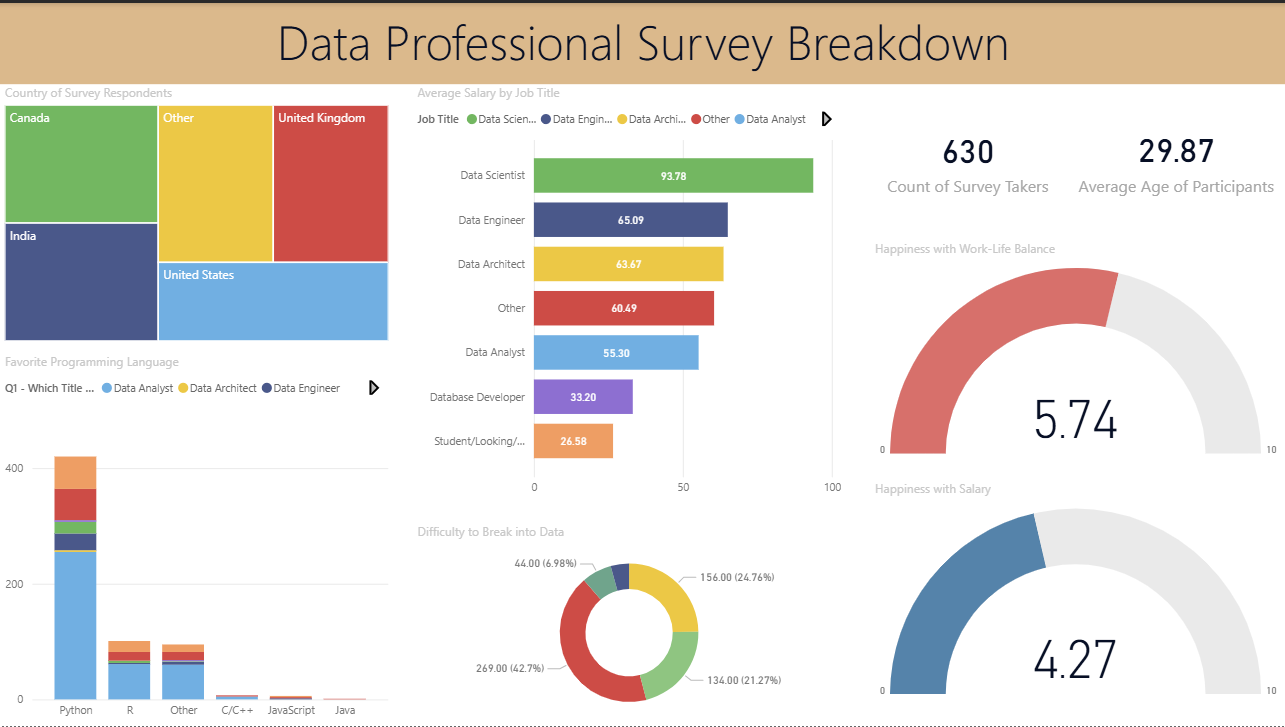

The dashboard page shown, as its layout file describes it:
{"tool":"powerbi","page":{"name":"Page 1","canvas":[1280,720],"ordinal":0},"visuals":[{"type":"textbox","box":[0,0,1280.3,81],"z":0},{"type":"card","fields":{"Values":["Count(Data Professional Survey.Unique ID)"]},"box":[865.5,80.9,195.2,150.2],"z":1000},{"type":"card","fields":{"Values":["Avg(Data Professional Survey.Q10 - Current Age)"]},"box":[1060.7,80.9,219.6,149],"z":2000},{"type":"barChart","title":"Average Salary by Job Title","fields":{"Category":["Data Professional Survey.Q1 - Which Title Best Fits your Current Role?.1"],"Y":["Avg(Data Professional Survey.Average Salary)"],"Series":["Data Professional Survey.Q1 - Which Title Best Fits your Current Role?.1"]},"box":[410.9,80.9,431.5,417.3],"z":3000},{"type":"columnChart","title":"Favorite Programming Language","fields":{"Category":["Data Professional Survey.Q5 - Favorite Programming Language.1"],"Y":["CountNonNull(Data Professional Survey.Unique ID)"],"Series":["Data Professional Survey.Q1 - Which Title Best Fits your Current Role?.1"]},"box":[0,348,391.7,372.4],"z":4000},{"type":"treemap","title":"Country of Survey Respondents","fields":{"Group":["Data Professional Survey.Q11 - Which Country do you live in?.1"],"Values":["Count(Data Professional Survey.Q11 - Which Country do you live in?.1)"]},"box":[0,80.9,391.7,260.7],"z":5000},{"type":"gauge","title":"Happiness with Work-Life Balance","fields":{"Y":["Avg(Data Professional Survey.Q6 - How Happy are you in your Current Position with the following? (Work/Life Balance))"],"MinValue":["Min(Data Professional Survey.Q6 - How Happy are you in your Current Position with the following? (Work/Life Balance))"],"MaxValue":["Max(Data Professional Survey.Q6 - How Happy are you in your Current Position with the following? (Work/Life Balance))1"]},"box":[865.5,236.3,414.8,228.6],"z":6000},{"type":"gauge","title":"Happiness with Salary","fields":{"Y":["Avg(Data Professional Survey.Q6 - How Happy are you in your Current Position with the following? (Salary))"],"MaxValue":["Max(Data Professional Survey.Q6 - How Happy are you in your Current Position with the following? (Salary))1"],"MinValue":["Min(Data Professional Survey.Q6 - How Happy are you in your Current Position with the following? (Salary))2"]},"box":[865.5,475.1,414.8,229.9],"z":7000},{"type":"donutChart","title":"Difficulty to Break into Data","fields":{"Series":["Data Professional Survey.Q7 - How difficult was it for you to break into Data?"],"Y":["CountNonNull(Data Professional Survey.Q7 - How difficult was it for you to break into Data?)"]},"box":[410.9,517.5,431.5,202.9],"z":8000}]}

Visuals, with their boxes in screenshot pixels (x1, y1, x2, y2), scaled from the page's 1280x720 canvas onto the 1285x727 screenshot:
textbox: (0,0,1284,82)
card - Count(Data Professional Survey.Unique ID): (869,82,1065,233)
card - Avg(Data Professional Survey.Q10 - Current Age): (1065,82,1284,232)
"Average Salary by Job Title" barChart: (413,82,846,503)
"Favorite Programming Language" columnChart: (0,351,393,726)
"Country of Survey Respondents" treemap: (0,82,393,345)
"Happiness with Work-Life Balance" gauge: (869,239,1284,469)
"Happiness with Salary" gauge: (869,480,1284,712)
"Difficulty to Break into Data" donutChart: (413,523,846,726)
